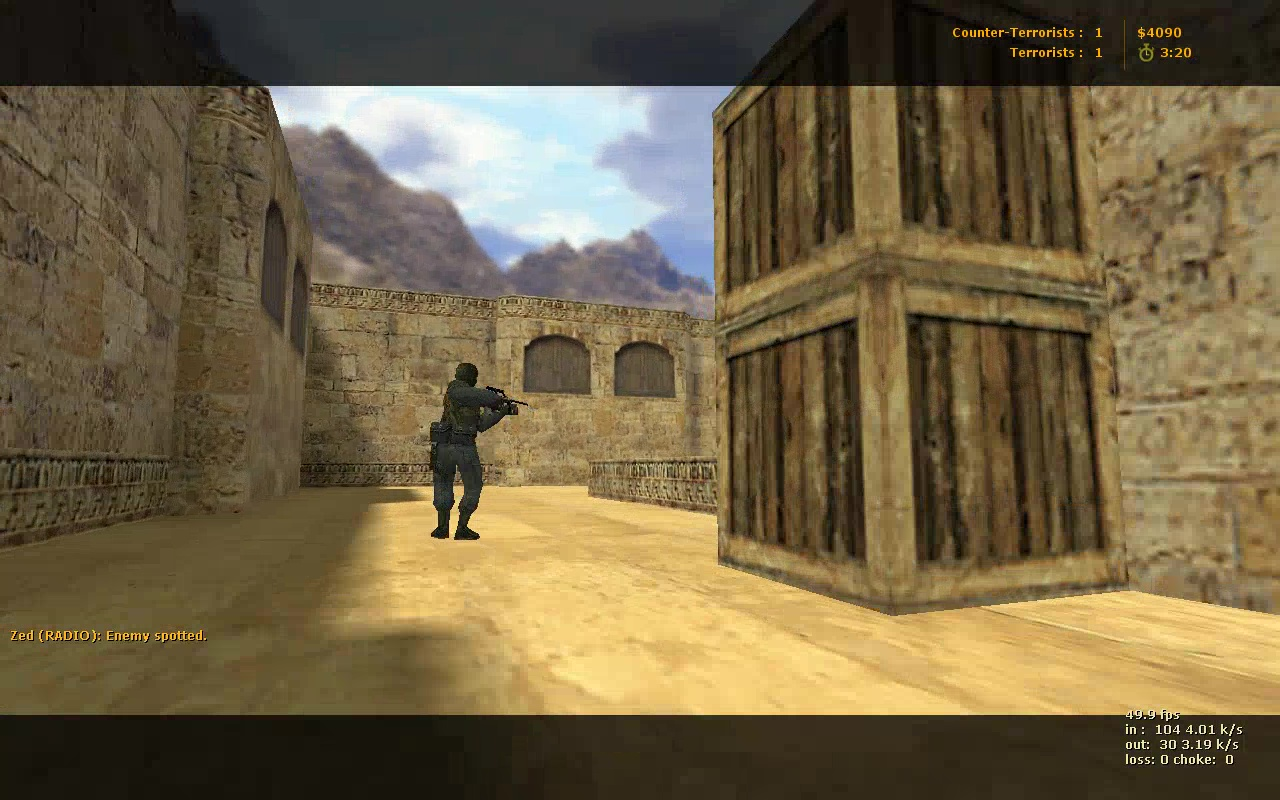ct: (429, 363, 519, 540)
